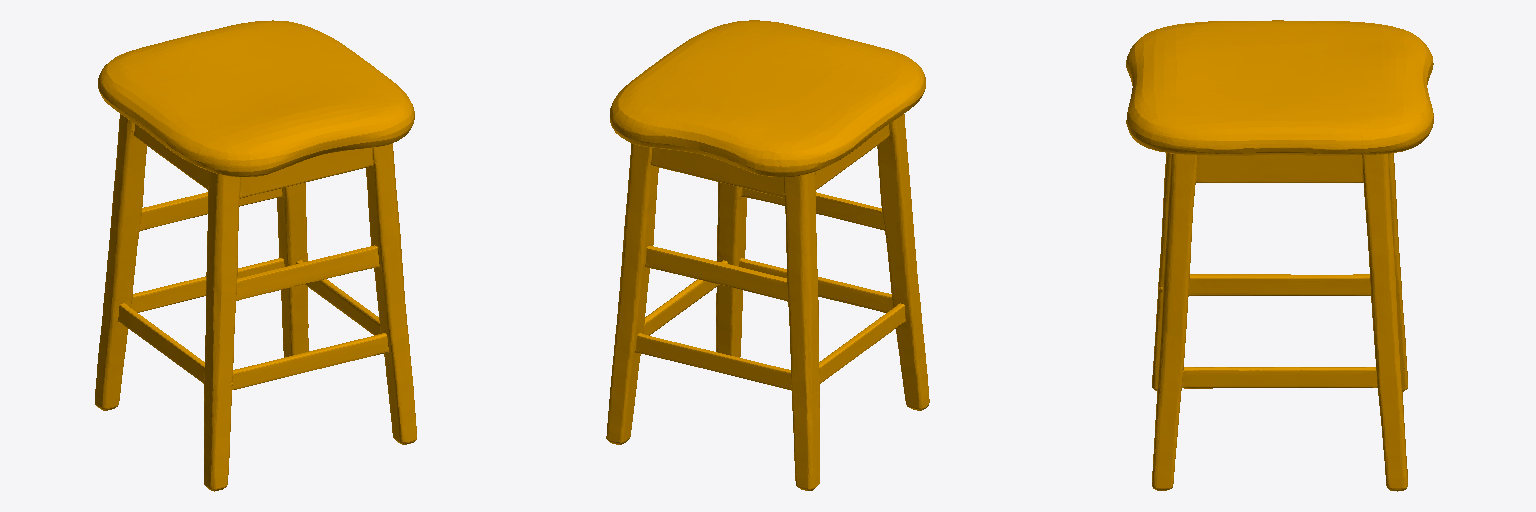
URDF robot description (bar_stool_34):
<?xml version="1.0" ?>
<robot name="bar_stool_34">
   <link name="bar_stool_34">
      <visual>
         <origin xyz="0 0 0" rpy="1.5708 0.0 0.0"/>
         <geometry>
            <mesh filename="mesh/bar_stool_34.obj" scale="1.0 1.0 1.0"/>
         </geometry>
      </visual>
      <collision>
         <origin xyz="0 0 0" rpy="1.5708 0.0 0.0"/>
         <geometry>
            <mesh filename="mesh/bar_stool_34_collision.obj" scale="1.0 1.0 1.0"/>
         </geometry>
         <gazebo>
            <mu1>0.60</mu1>
            <mu2>0.50</mu2>
         </gazebo>
      </collision>
      <inertial>
         <mass value="5.5000"/>
         <origin xyz="0 0 0"/>
         <inertia ixx="1.0" ixy="0.0" ixz="0.0" iyy="1.0" iyz="0.0" izz="1.0"/>
      </inertial>
      <extra_info>
         <scale>0.775000</scale>
         <version>v0.1.5</version>
         <category>bar_stool</category>
         <description>wooden bar stool with round seat and four sturdy legs</description>
         <min_height>0.7</min_height>
         <max_height>0.85</max_height>
         <real_height>0.775</real_height>
         <min_mass>4.5</min_mass>
         <max_mass>6.5</max_mass>
         <generate_time>20251021124021</generate_time>
         <gs_model>mesh/bar_stool_34_gs.ply</gs_model>
      </extra_info>
   </link>
   <custom_data>
      <quality>
         <MeshGeoChecker>YES</MeshGeoChecker>
         <ImageSegChecker>YES</ImageSegChecker>
         <ImageAestheticChecker>4.721969127655029</ImageAestheticChecker>
         <overall>YES</overall>
      </quality>
   </custom_data>
</robot>

--- Render facts (derived) ---
3 views of the same robot in one strip: view 1: azimuth 30°, elevation 25°; view 2: azimuth 150°, elevation 25°; view 3: azimuth 270°, elevation 25° (orthographic).
Robot: bar_stool_34 — 1 links, 0 joints (none); root link bar_stool_34; default pose: every joint at zero.
Links seen in each view (by area): view 1: bar_stool_34; view 2: bar_stool_34; view 3: bar_stool_34.
Boxes of the visible links, x1=… form: bar_stool_34: x1=95, y1=20, x2=416, y2=491; bar_stool_34: x1=606, y1=20, x2=929, y2=490; bar_stool_34: x1=1126, y1=20, x2=1433, y2=491.
Size in the robot's own frame: 0.5348 by 0.5807 by 0.775 metres.
Meshes: 1 distinct files referenced, 1 mesh visuals loaded (1 OBJ).
